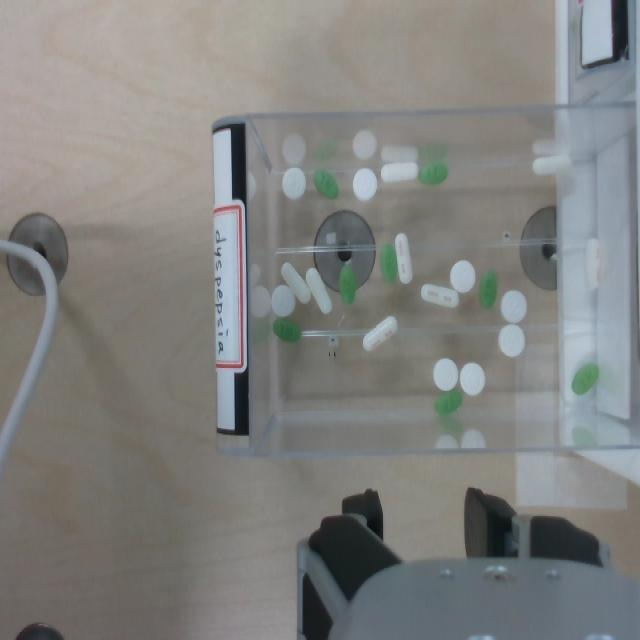magmil_tab: (498, 324, 524, 357), (500, 291, 526, 323), (450, 260, 475, 293), (460, 363, 485, 395), (433, 359, 458, 391), (353, 168, 377, 200), (271, 285, 295, 316), (282, 167, 305, 199)
medilacsenteric_tab: (363, 316, 397, 351), (281, 263, 310, 303), (306, 268, 331, 313), (394, 233, 412, 283), (421, 284, 459, 307), (532, 153, 570, 175), (585, 239, 601, 289), (381, 161, 418, 181)
nexilen_tab: (571, 361, 599, 396), (435, 388, 462, 416), (313, 169, 338, 197), (273, 317, 301, 341), (339, 265, 356, 304), (380, 243, 397, 281), (480, 271, 497, 308), (419, 163, 447, 184)
